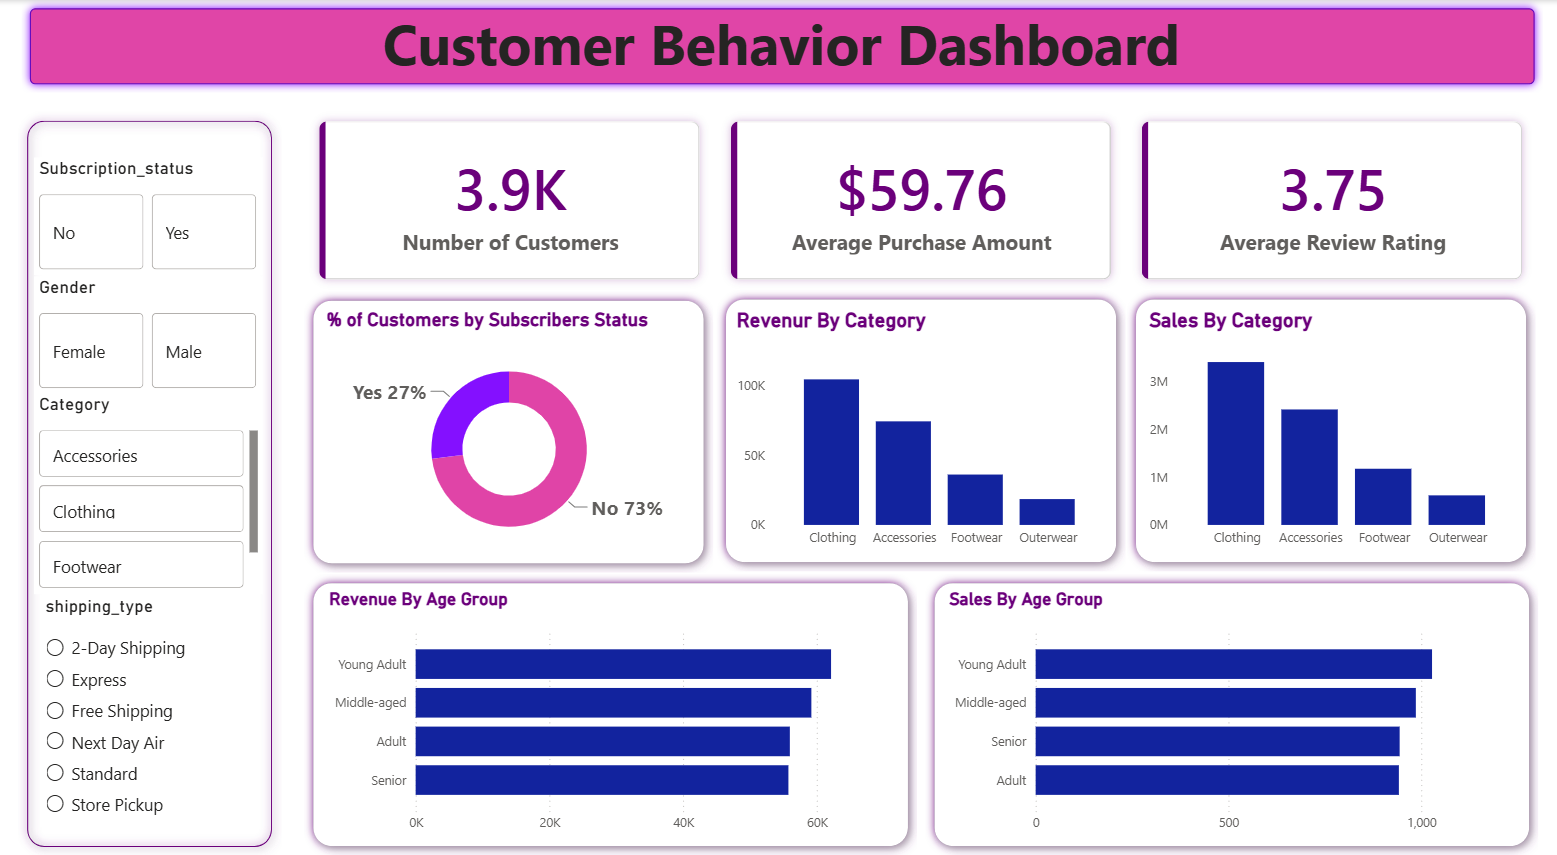

Layout of this report page (visuals, bound fields, positions):
{"tool":"powerbi","page":{"name":"Page 1","canvas":[1500,820],"ordinal":0},"visuals":[{"type":"cardVisual","fields":{"Data":["customer.Number of Customers","customer.Average Purchase Amount","customer.Average Review Rating"]},"box":[278.8,88.8,1208.8,207.5],"z":0},{"type":"shape","box":[21.2,0,1457.5,88.8],"z":1000},{"type":"textbox","box":[38.8,0,1422.5,98.8],"z":2000},{"type":"shape","box":[687.7,277.5,391.9,269.8],"z":3000},{"type":"shape","box":[17.5,106.2,252.5,713.8],"z":4000},{"type":"clusteredColumnChart","title":"Revenur By Category","fields":{"Y":["Sum(customer.purchase_amount)"],"Category":["customer.category"]},"box":[701.3,295.2,363.8,237.1],"z":5000},{"type":"advancedSlicerVisual","title":"Subscription_status","fields":{"Values":["customer.subscription_status"]},"box":[33.8,151.2,219.4,113.1],"z":6000},{"type":"shape","box":[292.5,278.9,391.9,269.8],"z":6000},{"type":"donutChart","title":"% of Customers by Subscribers Status","fields":{"Category":["customer.subscription_status"],"Y":["CountNonNull(customer.customer_id)"]},"box":[308.9,295.2,359.7,237.1],"z":7000},{"type":"advancedSlicerVisual","title":"Gender","fields":{"Values":["customer.gender"]},"box":[33.8,264.3,219.4,113.1],"z":8000},{"type":"shape","box":[1080.1,277.5,391.9,269.8],"z":8000},{"type":"clusteredColumnChart","title":"Sales By Category","fields":{"Y":["Sum(customer.customer_id)"],"Category":["customer.category"]},"box":[1096.5,295.2,362.5,237.1],"z":9000},{"type":"advancedSlicerVisual","title":"Category","fields":{"Values":["customer.category"]},"box":[33.8,377.4,219.4,192.1],"z":10000},{"type":"shape","box":[292.5,550,587.5,270],"z":10000},{"type":"shape","box":[887.5,550,587.5,270],"z":11000},{"type":"clusteredBarChart","title":"Revenue By Age Group","fields":{"Y":["Sum(customer.purchase_amount)"],"Category":["customer.age_group"]},"box":[311.2,563.8,551.2,242.5],"z":12000},{"type":"listSlicer","fields":{"Values":["customer.shipping_type"]},"box":[40,570,207.5,222.5],"z":12000},{"type":"clusteredBarChart","title":"Sales By Age Group","fields":{"Y":["CountNonNull(customer.customer_id)"],"Category":["customer.age_group"]},"box":[905,563.8,551.2,242.5],"z":13000}]}

Visuals, with their boxes in screenshot pixels (x1, y1, x2, y2), scaled from the page's 1500x820 canvas onto the 1557x855 screenshot:
cardVisual - customer.Number of Customers x customer.Average Purchase Amount: <bbox>289, 93, 1544, 309</bbox>
shape: <bbox>22, 0, 1535, 93</bbox>
textbox: <bbox>40, 0, 1517, 103</bbox>
shape: <bbox>714, 289, 1121, 571</bbox>
shape: <bbox>18, 111, 280, 854</bbox>
"Revenur By Category" clusteredColumnChart: <bbox>728, 308, 1106, 555</bbox>
"Subscription_status" advancedSlicerVisual: <bbox>35, 158, 263, 276</bbox>
shape: <bbox>304, 291, 710, 572</bbox>
"% of Customers by Subscribers Status" donutChart: <bbox>321, 308, 694, 555</bbox>
"Gender" advancedSlicerVisual: <bbox>35, 276, 263, 394</bbox>
shape: <bbox>1121, 289, 1528, 571</bbox>
"Sales By Category" clusteredColumnChart: <bbox>1138, 308, 1514, 555</bbox>
"Category" advancedSlicerVisual: <bbox>35, 394, 263, 594</bbox>
shape: <bbox>304, 573, 913, 854</bbox>
shape: <bbox>921, 573, 1531, 854</bbox>
"Revenue By Age Group" clusteredBarChart: <bbox>323, 588, 895, 841</bbox>
listSlicer - customer.shipping_type: <bbox>42, 594, 257, 826</bbox>
"Sales By Age Group" clusteredBarChart: <bbox>939, 588, 1512, 841</bbox>
